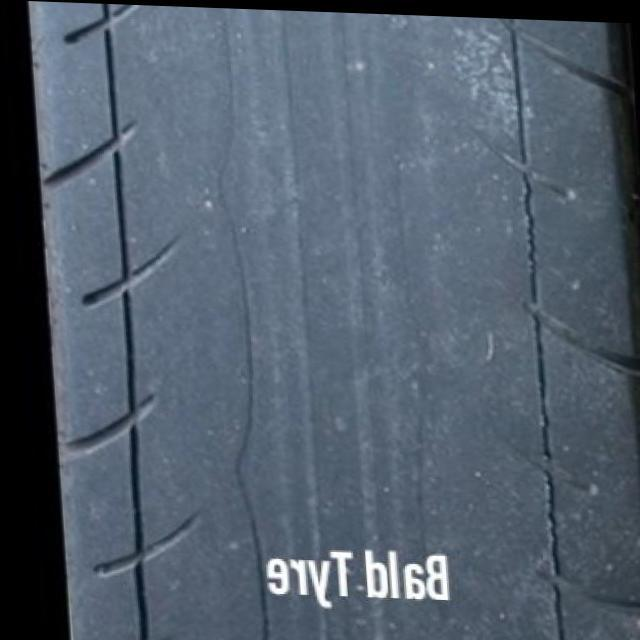Flat spots: (123, 33, 593, 640)
